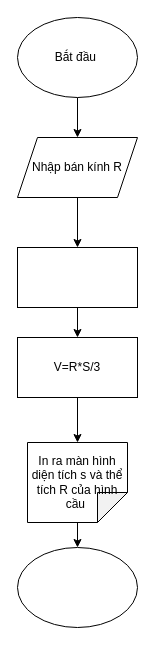
Some shapes in this 155 by 645 pixel diagram are drawn without their labels. The centre of each missing label's shape, as x and y in pixels:
Kết thúc: the point at 77,587
S=4*R*R: the point at 77,277
